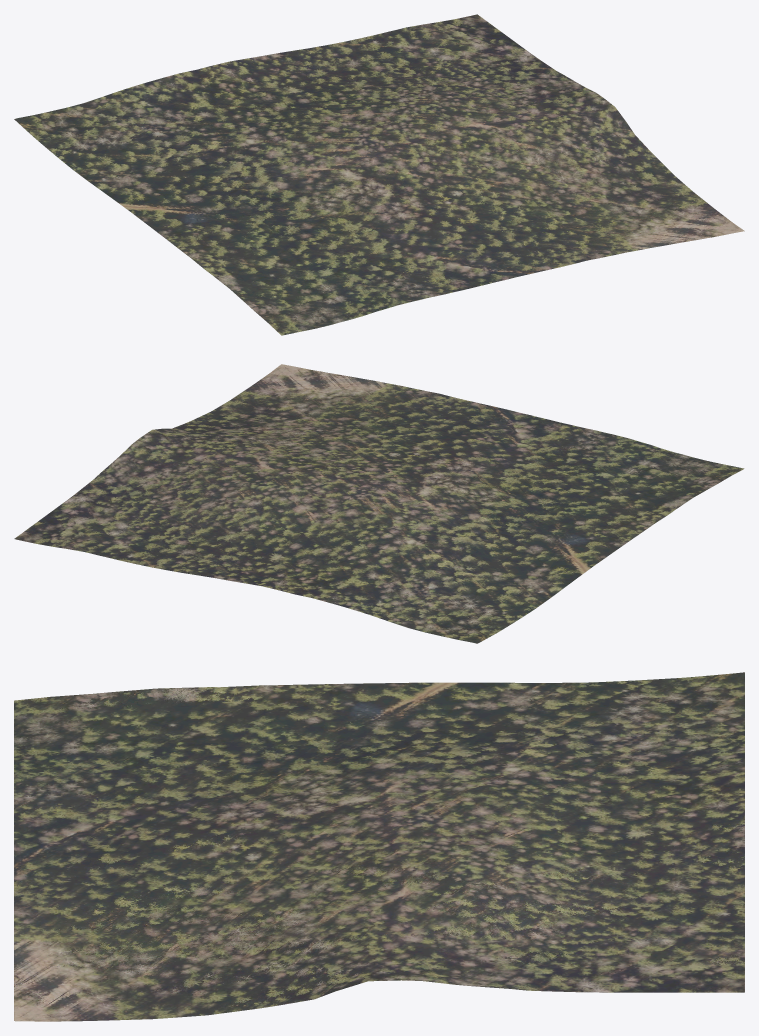
Rendered from CM_Terrain_24490663_6822251.fbx.
3 views of the same model, one above another, from view 1: azimuth 30°, elevation 25°; view 2: azimuth 150°, elevation 25°; view 3: azimuth 270°, elevation 25° (orthographic). The views are drawn at different scales.
Visible parts, largest first — view 1: CM_Terrain_24490663_6822251_LOD0; view 2: CM_Terrain_24490663_6822251_LOD0; view 3: CM_Terrain_24490663_6822251_LOD0.
Boxes of the visible parts, <box> form: CM_Terrain_24490663_6822251_LOD0: <box>14,14,744,335</box>; CM_Terrain_24490663_6822251_LOD0: <box>14,364,744,643</box>; CM_Terrain_24490663_6822251_LOD0: <box>14,672,744,1021</box>.
Size of what is drawn, in the model's own units: 205 by 16.05 by 205.
